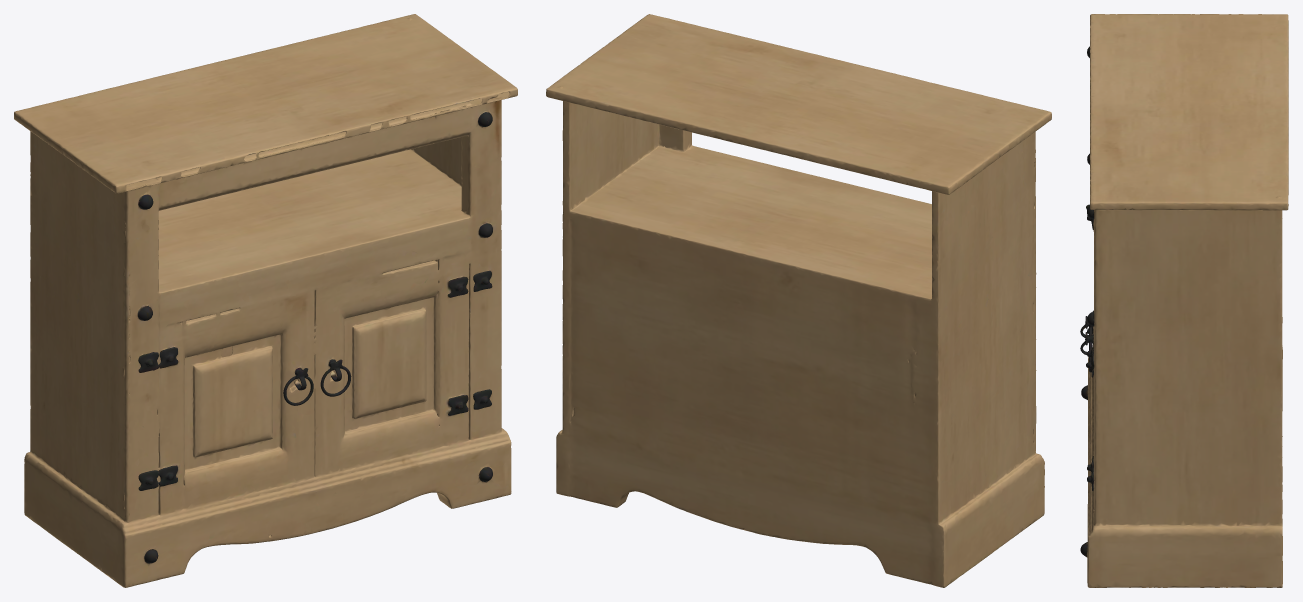
File: B008RLJR2G.glb
The picture shows the model from 3 angles, left to right: view 1: azimuth 30°, elevation 25°; view 2: azimuth 150°, elevation 25°; view 3: azimuth 270°, elevation 25°; orthographic projection. The views are drawn at different scales.
Visible parts, largest first — view 1: geometry_0; view 2: geometry_0; view 3: geometry_0.
Boxes of the visible parts, x1,y1,x2,y2 form: geometry_0: [14, 14, 517, 587]; geometry_0: [546, 14, 1051, 587]; geometry_0: [1080, 14, 1288, 587].
Bounding box in the file's own units: 0.6679 × 0.6431 × 0.3106.
1 material, 1 textured.
